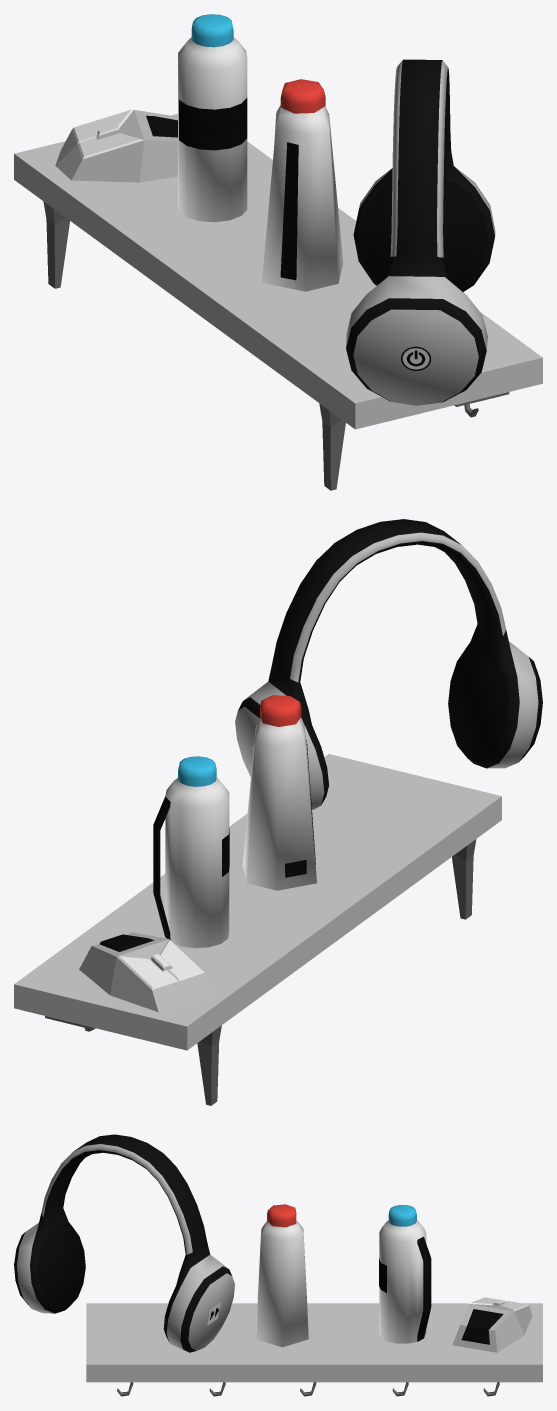
File: OfficeStuff3rdBatch.fbx
3 views of the same model, one above another, from view 1: azimuth 30°, elevation 25°; view 2: azimuth 150°, elevation 25°; view 3: azimuth 270°, elevation 25° (orthographic). The views are drawn at different scales.
Parts seen in each view (by area): view 1: ShelvesforCups Clean, HeadPhones_Clean, ReusableWaterBottle, ReusableWaterBottle2, Mouse_Clean; view 2: ShelvesforCups Clean, HeadPhones_Clean, ReusableWaterBottle, ReusableWaterBottle2, Mouse_Clean; view 3: ShelvesforCups Clean, HeadPhones_Clean, ReusableWaterBottle, ReusableWaterBottle2, Mouse_Clean.
Part boxes in pixels (bbox=[...]): ShelvesforCups Clean: bbox=[14, 113, 542, 490]; HeadPhones_Clean: bbox=[346, 59, 495, 405]; ReusableWaterBottle: bbox=[178, 14, 247, 222]; ReusableWaterBottle2: bbox=[262, 79, 343, 291]; Mouse_Clean: bbox=[55, 109, 177, 182]; ShelvesforCups Clean: bbox=[14, 754, 501, 1105]; HeadPhones_Clean: bbox=[235, 519, 542, 810]; ReusableWaterBottle: bbox=[153, 756, 229, 948]; ReusableWaterBottle2: bbox=[242, 695, 316, 890]; Mouse_Clean: bbox=[79, 932, 211, 1012]; ShelvesforCups Clean: bbox=[86, 1303, 542, 1396]; HeadPhones_Clean: bbox=[14, 1134, 234, 1352]; ReusableWaterBottle: bbox=[379, 1205, 431, 1343]; ReusableWaterBottle2: bbox=[256, 1204, 308, 1347]; Mouse_Clean: bbox=[452, 1297, 531, 1352].
Size of the model in its own units: 94.88 by 154 by 277.
